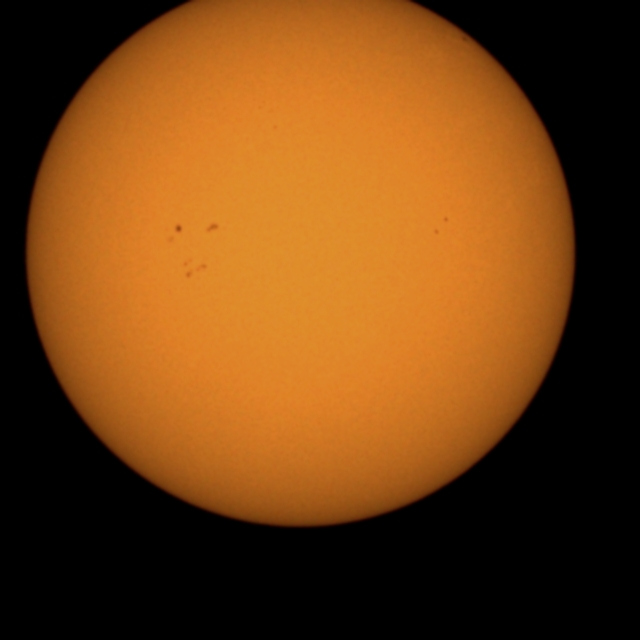sunspot: (182, 258, 209, 280), (167, 222, 183, 244), (433, 216, 449, 236), (205, 221, 220, 234), (174, 223, 184, 234), (442, 215, 450, 224), (433, 228, 441, 236)
